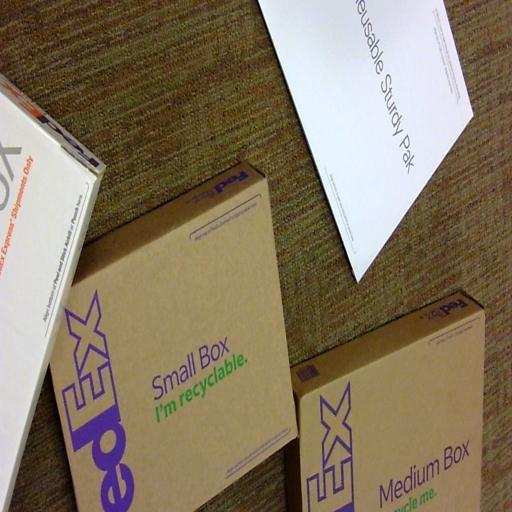Amazon: (54, 172, 286, 512), (293, 302, 485, 512)
